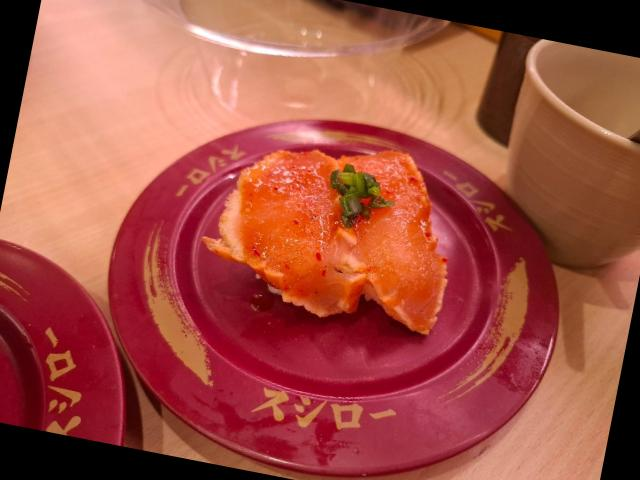janred: (101, 84, 584, 466), (0, 237, 183, 449)
